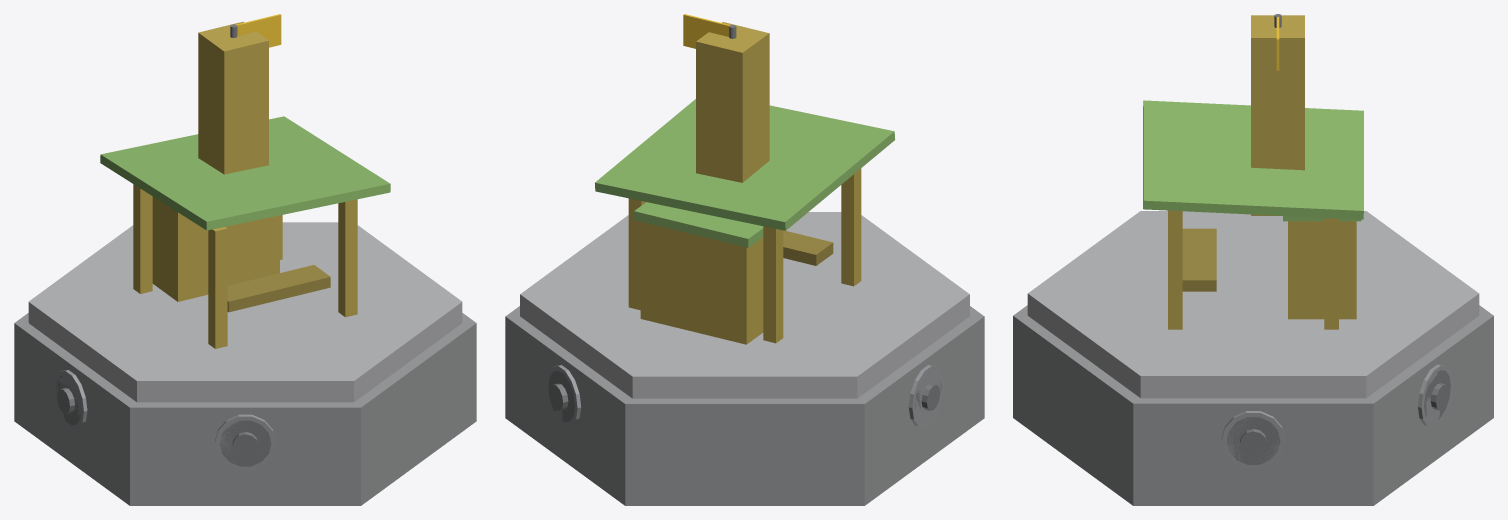
File: trading_post_s2_100.glb
The picture shows the model from 3 angles, left to right: view 1: azimuth 30°, elevation 25°; view 2: azimuth 150°, elevation 25°; view 3: azimuth 270°, elevation 25°; orthographic projection. The views are drawn at different scales.
Visible parts, largest first — view 1: TP_Base; view 2: TP_Base; view 3: TP_Base.
Part boxes in pixels (x1=…): TP_Base: x1=14, y1=14, x2=476, y2=505; TP_Base: x1=505, y1=14, x2=984, y2=505; TP_Base: x1=1013, y1=14, x2=1493, y2=505.
Bounding box in the file's own units: 1.78 × 1.81 × 1.96.
